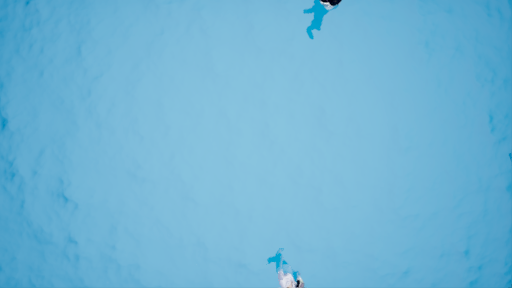person: (266, 242, 312, 288)
